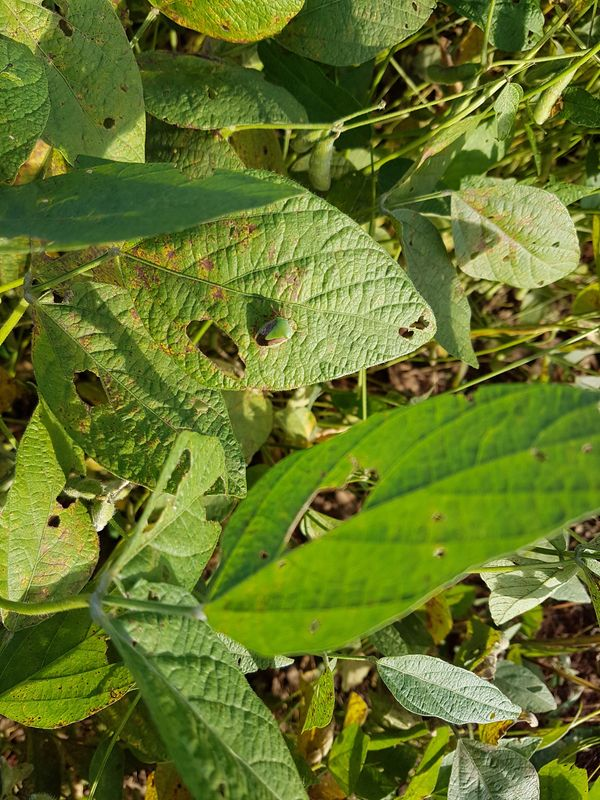Edessa_meditabunda: (243, 303, 307, 358)
